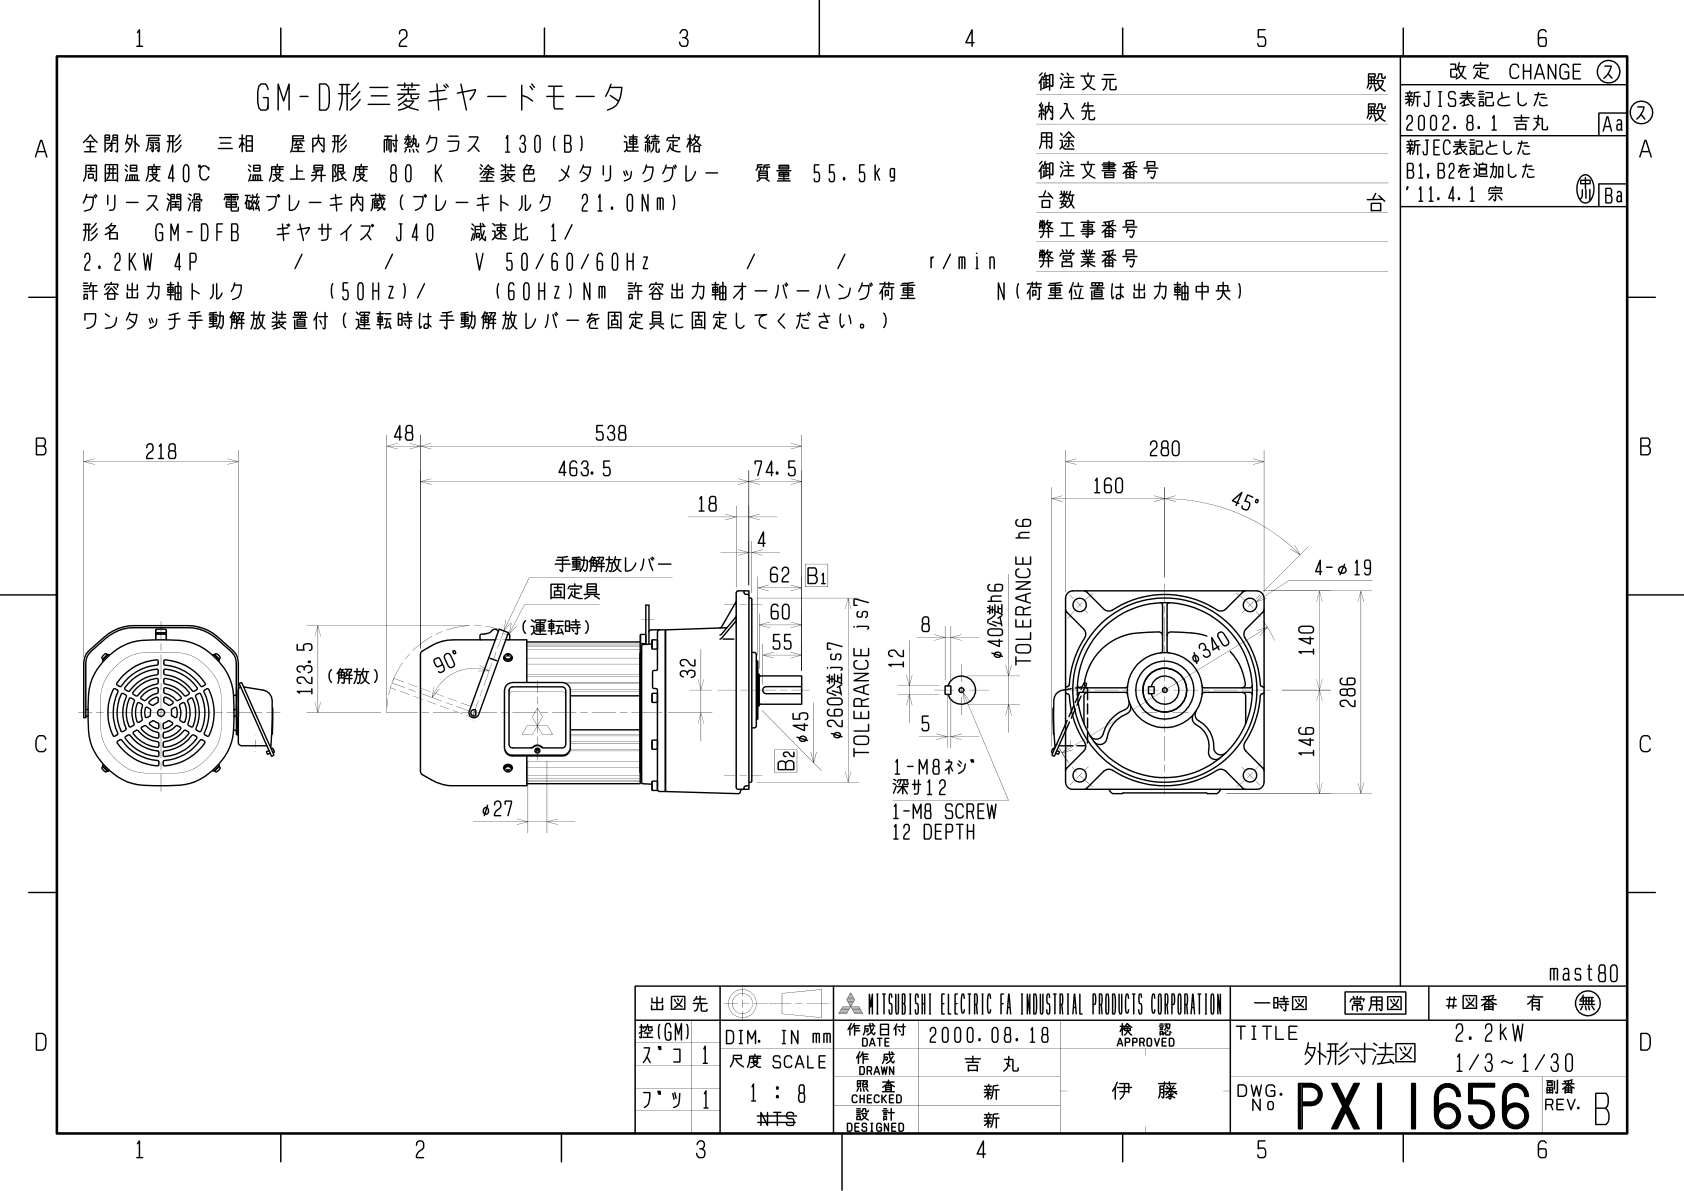GM_D_手動解放ブレーキ＿三相_フランジ: (70, 369, 1381, 914)
